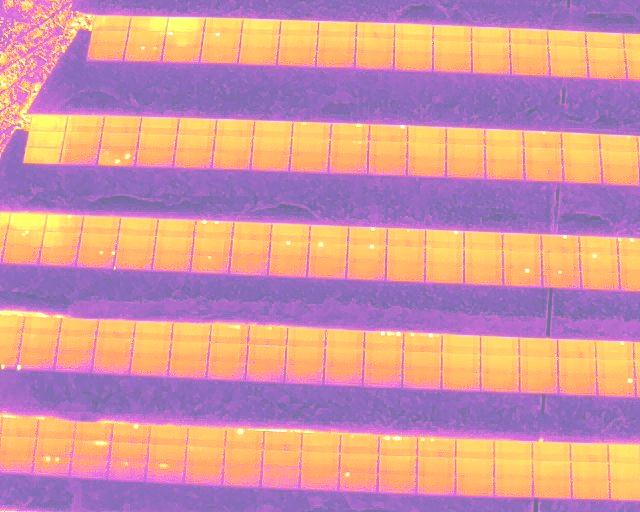Cell: (340, 471, 378, 492), (247, 325, 286, 345), (532, 440, 570, 460), (147, 463, 185, 483), (596, 378, 636, 397), (271, 241, 310, 260), (191, 254, 230, 273), (340, 434, 379, 453), (542, 269, 581, 288), (109, 461, 146, 481), (426, 228, 464, 247), (210, 325, 248, 344), (502, 268, 542, 286), (112, 424, 149, 443), (542, 235, 581, 253), (386, 228, 425, 246), (369, 124, 408, 142), (309, 241, 347, 259), (115, 251, 153, 269), (18, 352, 56, 370), (595, 341, 633, 359), (580, 253, 617, 271), (347, 244, 386, 261), (348, 227, 387, 244), (599, 135, 638, 152), (225, 431, 263, 448), (293, 122, 331, 139), (46, 215, 82, 232), (523, 131, 561, 147), (331, 124, 369, 140), (202, 32, 241, 47), (164, 31, 203, 46)
Cell-Multi: (379, 436, 417, 456), (418, 437, 456, 457), (403, 333, 442, 352), (33, 457, 71, 476), (195, 220, 234, 238), (365, 332, 404, 350), (78, 248, 114, 267), (194, 238, 233, 255), (5, 230, 43, 247), (330, 141, 368, 158), (97, 150, 136, 166), (124, 46, 163, 61)
No-Anomaly: (150, 423, 187, 446), (187, 425, 225, 447), (364, 350, 403, 371), (377, 473, 417, 493), (229, 256, 269, 276), (494, 440, 533, 460), (285, 366, 324, 386), (569, 443, 609, 462), (308, 259, 348, 278), (580, 270, 620, 289), (403, 351, 441, 371), (325, 348, 363, 368), (206, 361, 246, 380), (233, 222, 272, 241), (185, 447, 224, 466), (347, 261, 386, 280), (571, 481, 610, 500), (533, 479, 572, 498), (185, 466, 224, 485), (456, 477, 495, 496), (300, 471, 339, 490), (417, 475, 456, 494), (247, 345, 286, 364), (152, 252, 193, 270), (224, 467, 262, 486), (480, 337, 518, 356), (171, 324, 209, 343), (557, 339, 595, 358), (519, 358, 557, 377), (464, 268, 504, 286), (268, 259, 308, 277), (208, 344, 248, 362), (71, 460, 108, 479), (559, 377, 596, 396), (456, 458, 495, 476), (503, 233, 542, 251), (417, 457, 456, 475), (329, 158, 368, 176), (425, 247, 464, 265), (456, 440, 495, 458), (386, 264, 425, 282), (464, 249, 503, 267), (495, 478, 534, 496), (325, 330, 364, 348), (596, 360, 635, 378), (286, 347, 325, 365), (22, 318, 61, 336), (324, 369, 363, 387), (92, 356, 131, 374), (245, 365, 284, 383), (579, 235, 617, 253), (148, 446, 186, 464), (602, 167, 640, 185), (302, 452, 340, 470), (0, 437, 36, 456), (302, 434, 340, 452), (533, 461, 571, 479), (481, 357, 519, 375), (519, 339, 557, 357), (134, 323, 172, 341), (407, 144, 445, 162), (558, 359, 596, 377), (425, 266, 465, 283), (173, 152, 213, 169), (168, 360, 208, 377), (170, 342, 210, 359), (132, 342, 172, 359), (129, 359, 169, 376), (110, 443, 147, 461), (40, 247, 77, 265), (263, 467, 300, 485), (408, 127, 445, 145), (443, 337, 480, 355), (263, 450, 302, 467), (378, 455, 417, 472), (494, 461, 533, 478), (271, 224, 310, 241), (368, 159, 407, 176), (251, 154, 290, 171), (387, 247, 426, 264), (472, 57, 511, 74), (54, 355, 93, 372), (96, 322, 135, 339), (26, 131, 65, 148), (446, 146, 485, 163), (215, 120, 254, 137), (291, 139, 330, 156), (363, 371, 402, 388), (441, 356, 480, 373), (441, 374, 480, 391), (481, 376, 520, 393), (571, 463, 609, 480), (340, 454, 378, 471), (264, 433, 302, 450), (464, 232, 502, 249), (157, 219, 195, 236), (120, 217, 158, 234), (224, 449, 262, 466), (58, 319, 96, 336), (485, 148, 523, 165), (403, 372, 441, 389), (520, 377, 558, 394), (0, 456, 35, 474), (36, 438, 73, 455), (0, 419, 37, 436), (38, 421, 75, 438), (485, 130, 522, 147), (287, 329, 324, 346), (155, 236, 194, 252), (92, 15, 131, 31), (407, 162, 446, 178), (290, 157, 329, 173), (433, 56, 472, 72), (278, 50, 317, 66), (162, 46, 201, 62), (503, 252, 542, 268), (175, 135, 214, 151), (56, 338, 95, 354), (140, 118, 179, 134), (94, 339, 133, 355), (138, 134, 177, 150), (253, 122, 292, 138), (62, 133, 101, 149), (241, 34, 280, 50), (64, 117, 103, 133), (9, 213, 45, 230), (524, 165, 562, 181), (2, 248, 40, 264), (317, 50, 355, 66), (310, 225, 348, 241), (177, 119, 215, 135), (512, 58, 550, 74), (20, 336, 58, 352), (446, 129, 484, 145), (433, 26, 471, 42), (136, 151, 174, 167), (524, 149, 562, 165), (561, 134, 599, 150), (102, 117, 140, 133), (230, 240, 270, 255), (251, 139, 291, 154), (81, 217, 118, 233), (75, 423, 112, 439), (562, 151, 599, 167), (212, 154, 251, 169), (446, 163, 485, 178), (485, 165, 524, 180), (355, 51, 394, 66), (239, 49, 278, 64), (201, 47, 240, 62), (542, 254, 581, 269), (588, 62, 627, 77), (549, 60, 588, 75), (214, 138, 253, 153), (600, 152, 639, 167), (60, 149, 99, 164), (100, 134, 139, 149), (548, 31, 587, 46), (117, 234, 155, 249), (88, 45, 126, 60), (129, 17, 167, 32), (280, 21, 318, 36), (242, 19, 280, 34), (43, 232, 81, 247), (369, 143, 407, 158), (318, 21, 356, 36), (472, 28, 510, 43), (30, 116, 68, 131), (357, 23, 395, 38), (510, 30, 548, 45), (562, 167, 602, 181), (394, 53, 433, 67), (472, 43, 511, 57), (394, 24, 433, 38), (586, 34, 625, 48), (24, 148, 60, 163), (395, 39, 433, 53), (433, 42, 471, 56), (127, 31, 165, 45), (279, 36, 317, 50), (548, 47, 588, 60), (79, 233, 116, 247), (204, 18, 241, 32), (317, 36, 356, 49), (587, 48, 626, 61), (166, 18, 204, 31), (511, 45, 549, 58), (90, 32, 128, 45), (356, 37, 394, 49)
Unclassified: (73, 440, 109, 460)
